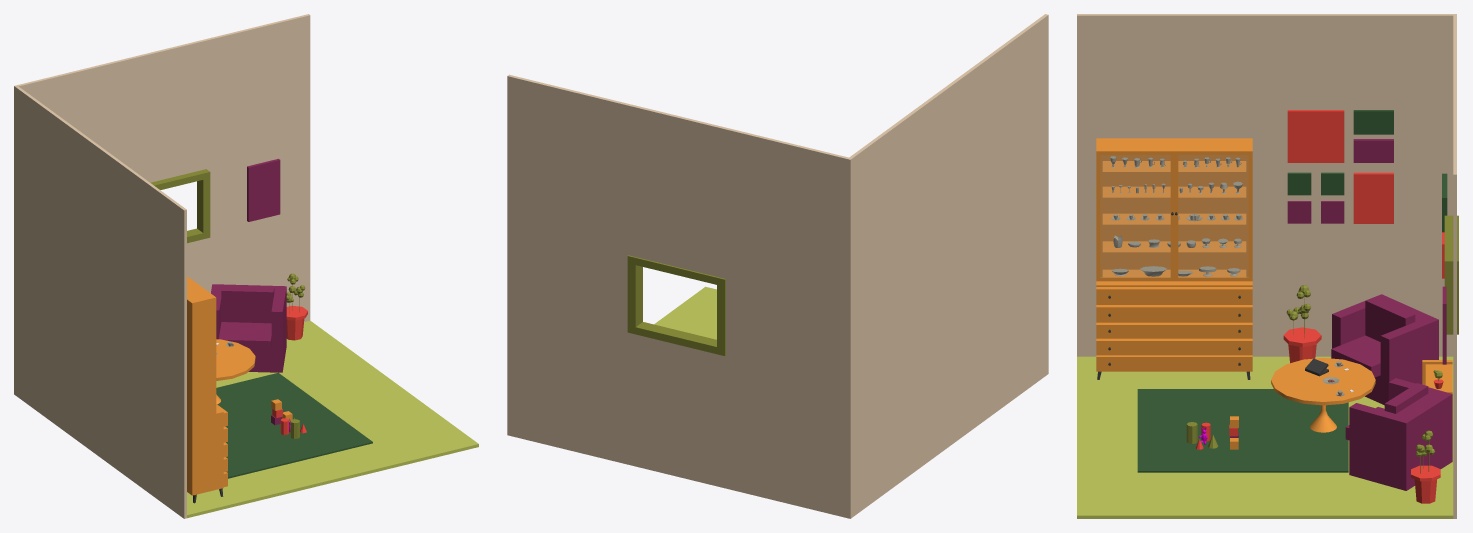
The picture shows the model from 3 angles, left to right: view 1: azimuth 30°, elevation 25°; view 2: azimuth 150°, elevation 25°; view 3: azimuth 270°, elevation 25°; orthographic projection. The views are drawn at different scales.
Parts seen in each view (by area): view 1: Chair_3; view 2: Chair_3; view 3: Chair_3.
Boxes of the visible parts, bbox=[...] form: Chair_3: bbox=[14, 14, 478, 518]; Chair_3: bbox=[507, 14, 1048, 518]; Chair_3: bbox=[1077, 14, 1458, 518].
Size of the model in its own units: 101 by 101 by 101.
